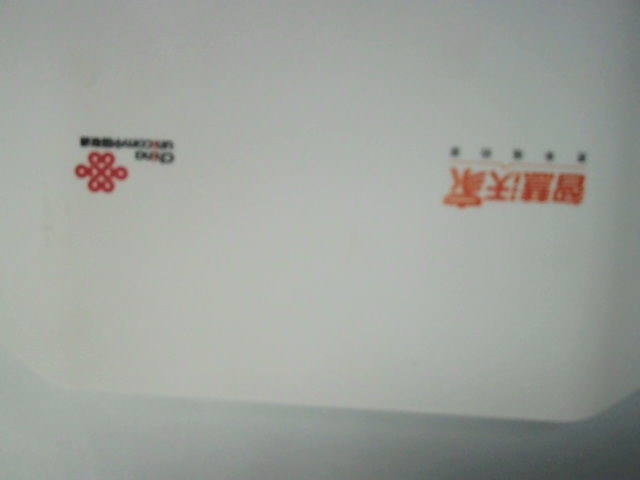ChinaUnicom1: (63, 125, 186, 198)
